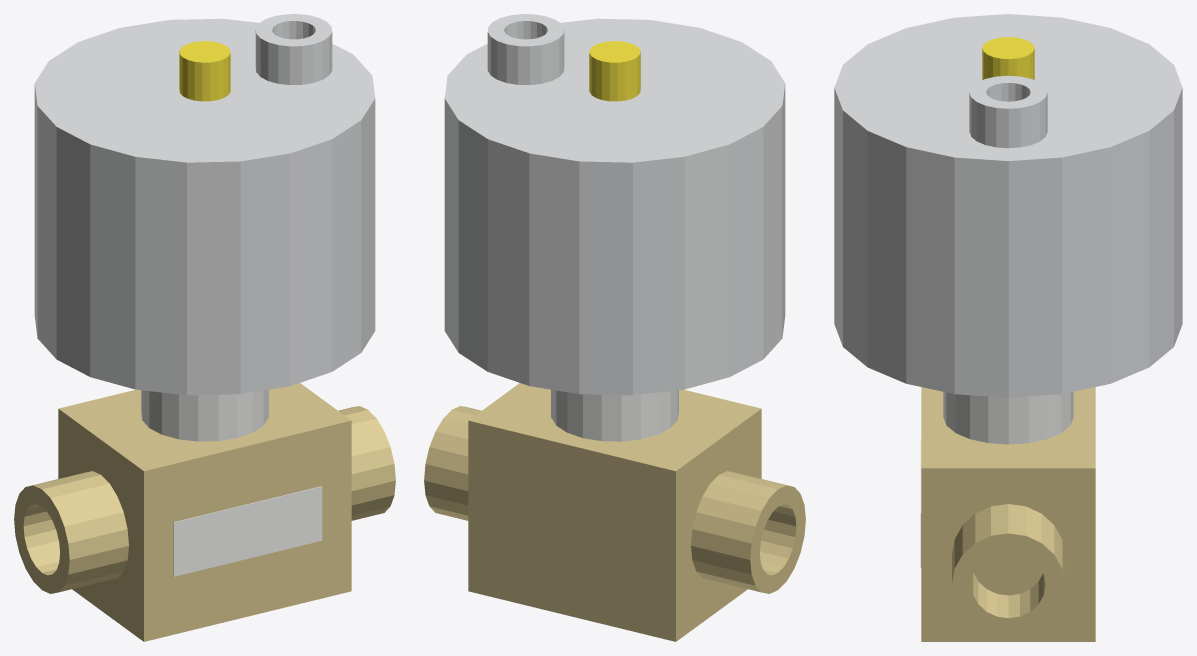
File: control-valve.glb
3 renders of one model, left to right at view 1: azimuth 30°, elevation 25°; view 2: azimuth 150°, elevation 25°; view 3: azimuth 270°, elevation 25°, orthographic.
Parts seen in each view (by area): view 1: body, port-in, port-12, port-out, stem; view 2: body, port-in, port-12, port-out, stem; view 3: body, port-out, port-12, stem.
Part boxes in pixels (x1=…): body: x1=34, y1=18, x2=375, y2=641; port-in: x1=14, y1=471, x2=128, y2=593; port-12: x1=255, y1=14, x2=332, y2=85; port-out: x1=338, y1=406, x2=395, y2=520; stem: x1=179, y1=41, x2=230, y2=101; body: x1=444, y1=18, x2=785, y2=641; port-in: x1=691, y1=471, x2=805, y2=593; port-12: x1=487, y1=14, x2=564, y2=85; port-out: x1=424, y1=406, x2=481, y2=520; stem: x1=589, y1=41, x2=640, y2=101; body: x1=834, y1=14, x2=1182, y2=641; port-out: x1=952, y1=504, x2=1064, y2=635; port-12: x1=969, y1=75, x2=1047, y2=148; stem: x1=982, y1=37, x2=1034, y2=79.
Size of what is drawn, in the model's own units: 0.088 by 0.1375 by 0.08.
